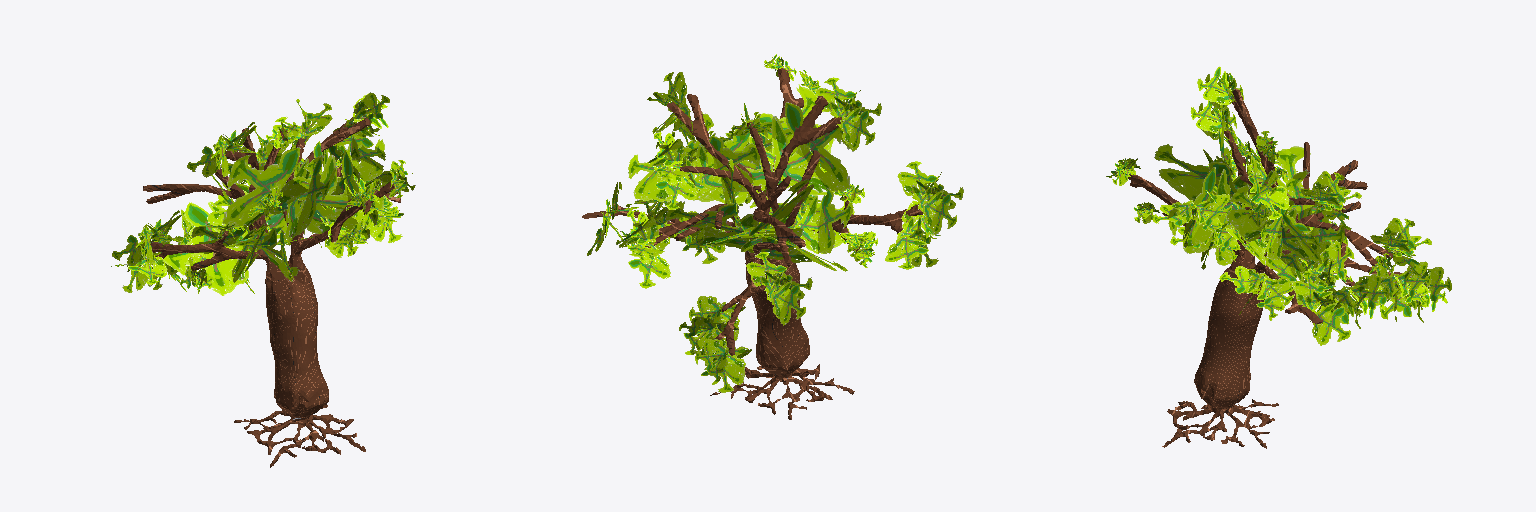
3 views of the same model, side by side, from view 1: azimuth 30°, elevation 25°; view 2: azimuth 150°, elevation 25°; view 3: azimuth 270°, elevation 25° (orthographic).
Parts seen in each view (by area): view 1: Tree.001, plane.151, plane.150, plane.156, plane.154, plane.152, plane.165, plane.160, plane.155, plane.161; view 2: Tree.001, plane.151, plane.161, plane.158, plane.166, plane.168, plane.159, plane.221, plane.231, plane.153, plane.226, plane.154 (+11 smaller); view 3: Tree.001, plane.154, plane.150, plane.169, plane.168, plane.296, plane.165, plane.220, plane.159, plane.155, plane.258, plane.291 (+8 smaller).
Part boxes in pixels (left/top/right/bottom): Tree.001: left=143, top=117, right=400, bottom=467; plane.151: left=222, top=147, right=308, bottom=228; plane.150: left=298, top=149, right=385, bottom=240; plane.156: left=163, top=201, right=249, bottom=295; plane.154: left=285, top=155, right=337, bottom=241; plane.152: left=269, top=153, right=325, bottom=215; plane.165: left=337, top=139, right=385, bottom=181; plane.160: left=248, top=228, right=299, bottom=281; plane.155: left=220, top=140, right=286, bottom=232; plane.161: left=191, top=225, right=255, bottom=253; Tree.001: left=582, top=68, right=922, bottom=419; plane.151: left=771, top=102, right=849, bottom=195; plane.161: left=794, top=189, right=853, bottom=253; plane.158: left=665, top=201, right=758, bottom=247; plane.166: left=696, top=136, right=760, bottom=194; plane.168: left=628, top=152, right=687, bottom=201; plane.159: left=741, top=179, right=813, bottom=251; plane.221: left=840, top=107, right=875, bottom=151; plane.231: left=771, top=281, right=805, bottom=325; plane.153: left=692, top=125, right=771, bottom=203; plane.226: left=922, top=191, right=956, bottom=234; plane.154: left=749, top=84, right=834, bottom=166; Tree.001: left=1123, top=89, right=1410, bottom=448; plane.154: left=1154, top=144, right=1248, bottom=201; plane.150: left=1167, top=167, right=1237, bottom=253; plane.169: left=1226, top=184, right=1296, bottom=241; plane.168: left=1278, top=213, right=1322, bottom=263; plane.296: left=1312, top=303, right=1350, bottom=345; plane.165: left=1260, top=195, right=1289, bottom=259; plane.220: left=1197, top=66, right=1231, bottom=104; plane.159: left=1247, top=146, right=1331, bottom=236; plane.155: left=1282, top=169, right=1345, bottom=250; plane.258: left=1318, top=240, right=1354, bottom=282; plane.291: left=1219, top=266, right=1261, bottom=293.
Size of the model in its own units: 49.79 by 47.75 by 45.28.
2 materials, 2 textured.